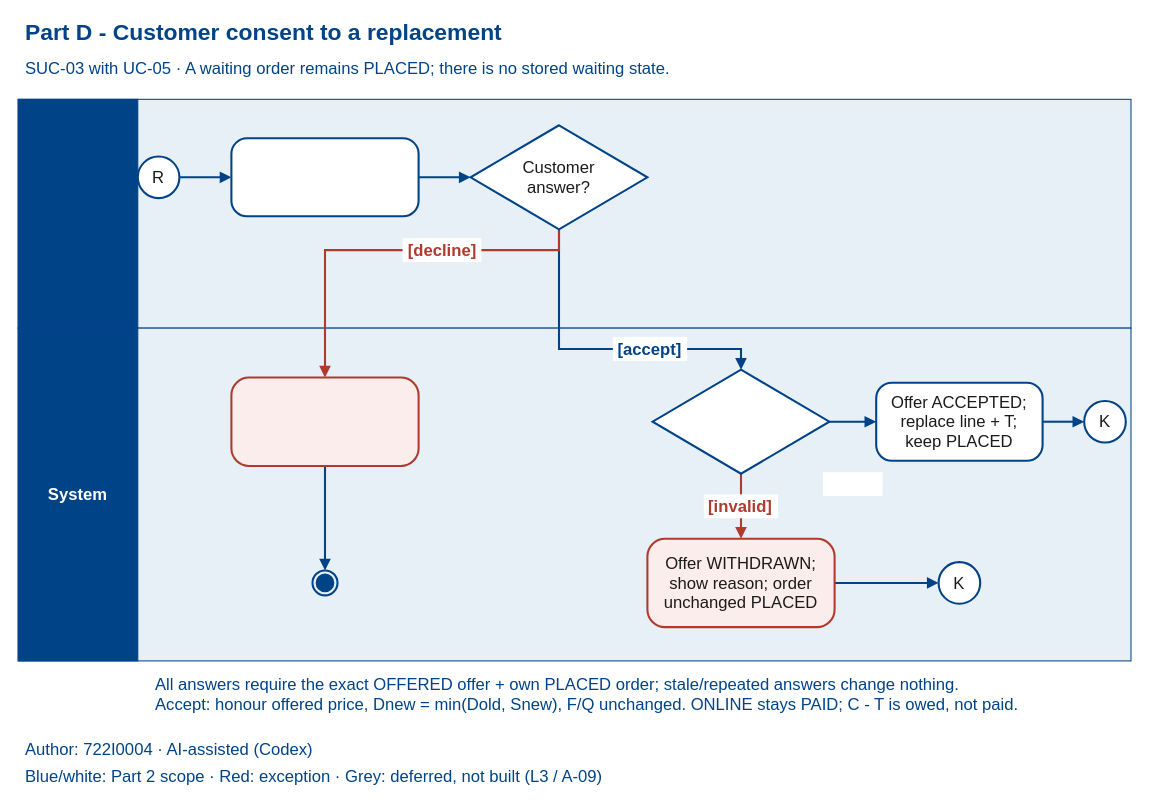
Image size: 1149x804. Some labels were removed from this diagram. Each missing label, with the centre of its shape:
"[valid]" goes at point 852,484.
"Customer" goes at point 77,213.
"Offer DECLINED; Order REJECTED; settle full liability" goes at point 324,421.
"Review original + new line, total and ONLINE refund owed" goes at point 324,177.
"Target valid?" goes at point 740,421.
